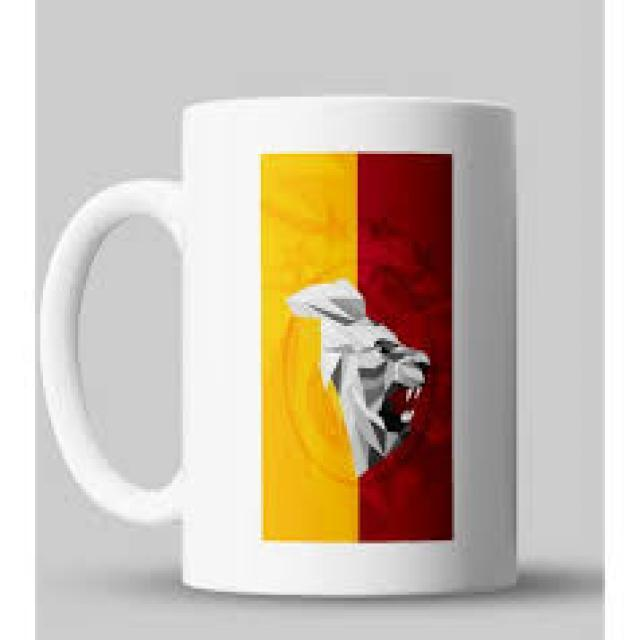taza: (40, 96, 518, 600)
